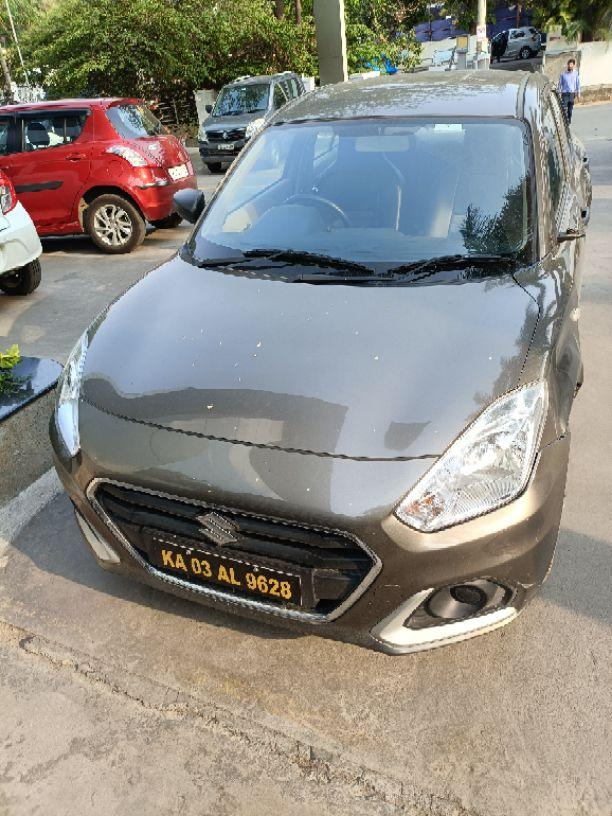license_plate: (139, 525, 308, 608)
